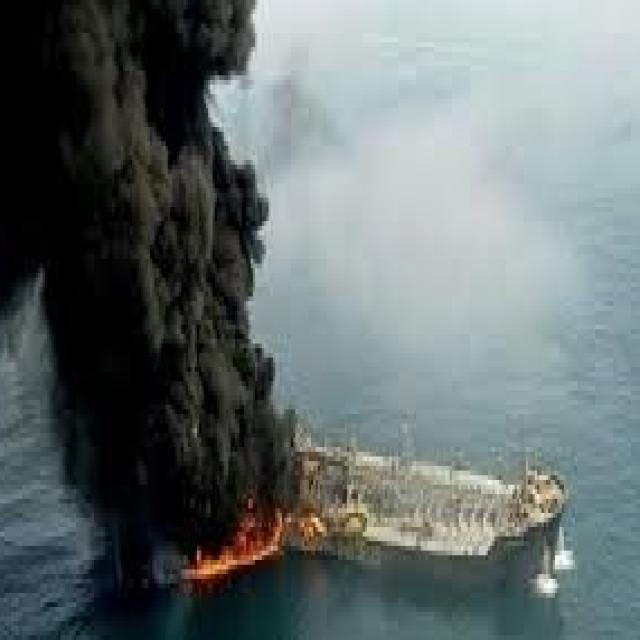cargoship: (278, 421, 568, 562)
